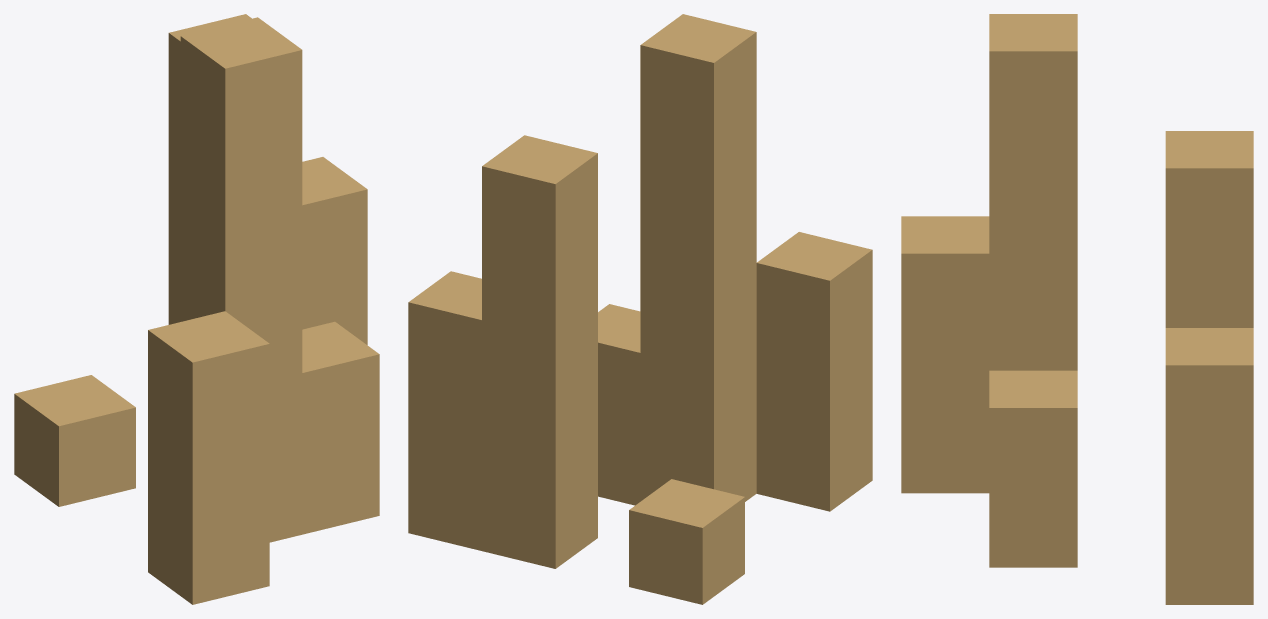
Rendered from Grass_1.obj.
3 renders of one model, left to right at view 1: azimuth 30°, elevation 25°; view 2: azimuth 150°, elevation 25°; view 3: azimuth 270°, elevation 25°, orthographic. The views are drawn at different scales.
Parts seen in each view (by area): view 1: Grass_1; view 2: Grass_1; view 3: Grass_1.
Boxes of the visible parts, box(x1,y1,x2,y2) form: Grass_1: box(14, 14, 379, 604); Grass_1: box(408, 14, 872, 604); Grass_1: box(901, 14, 1253, 604).
Bounding box in the file's own units: 4 × 6 × 4.
Materials: 1 (1 with a texture image).
